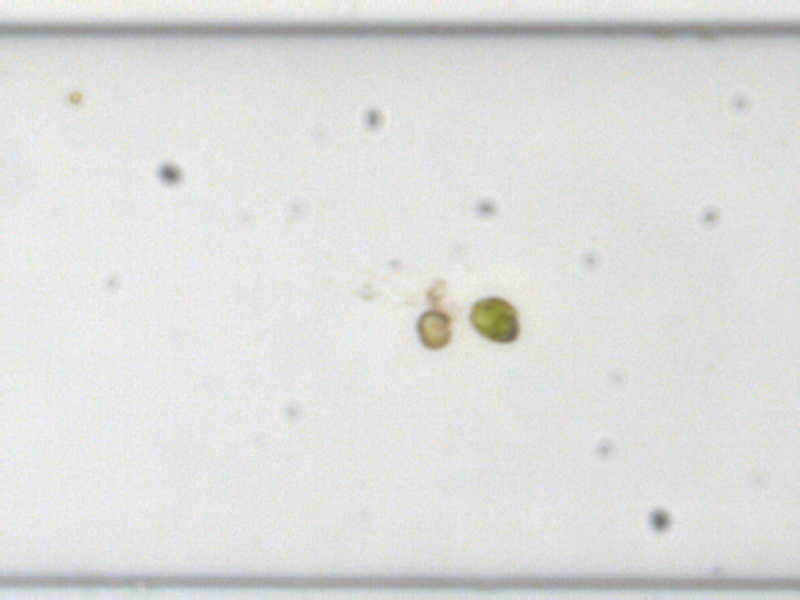Chlorella: (67, 89, 82, 103)
Effrenium: (414, 306, 453, 352)
Platymonas: (466, 293, 519, 344)
